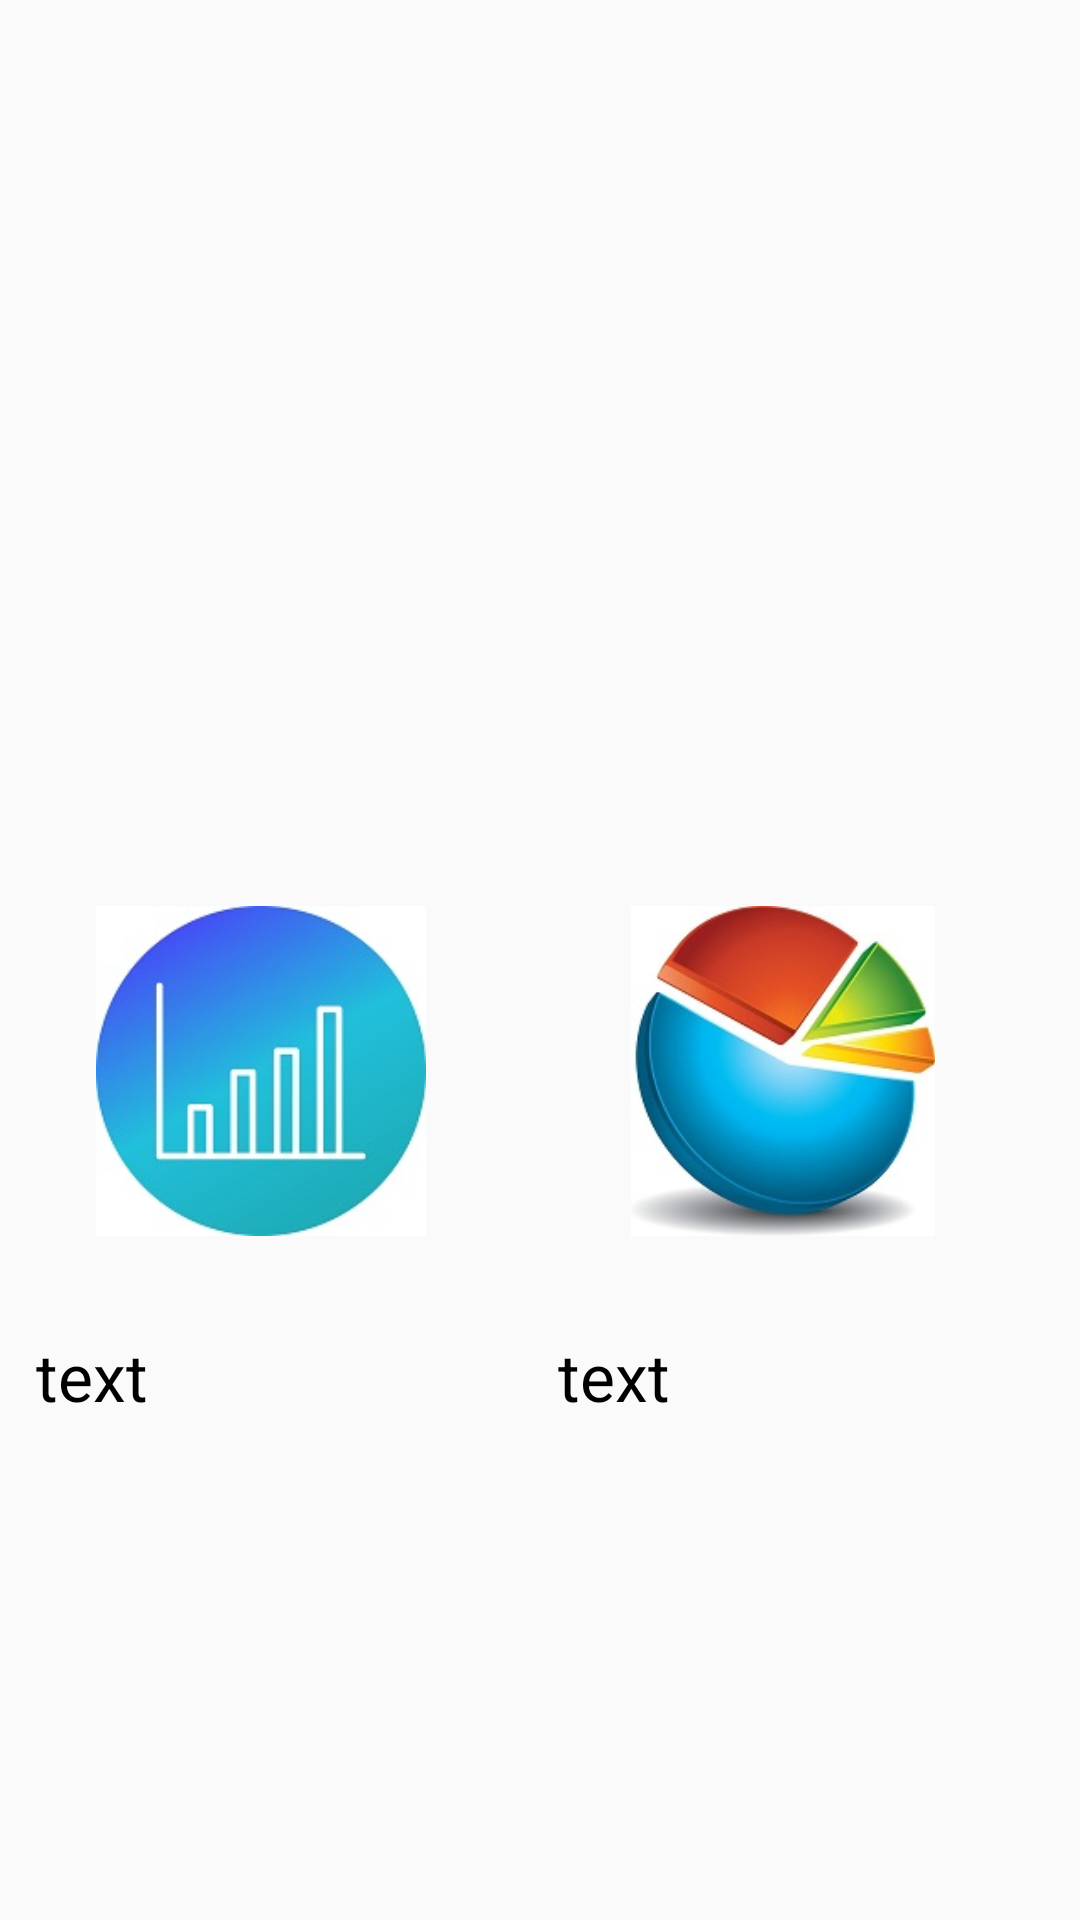

Locate icon controls on the screen. Image size 1080×1920, boxes as (x1, y1, x2, y2).
statbook: (635, 906, 935, 1234)
statuser: (96, 906, 426, 1236)
